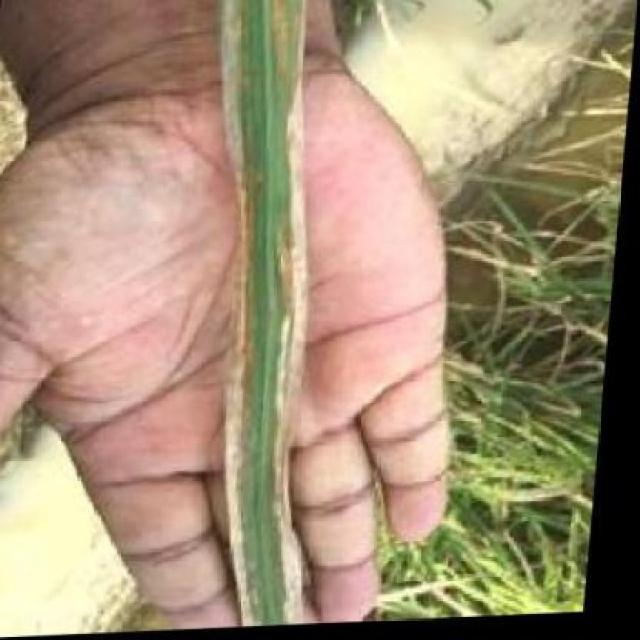Brown_Spot: (198, 0, 352, 629)
